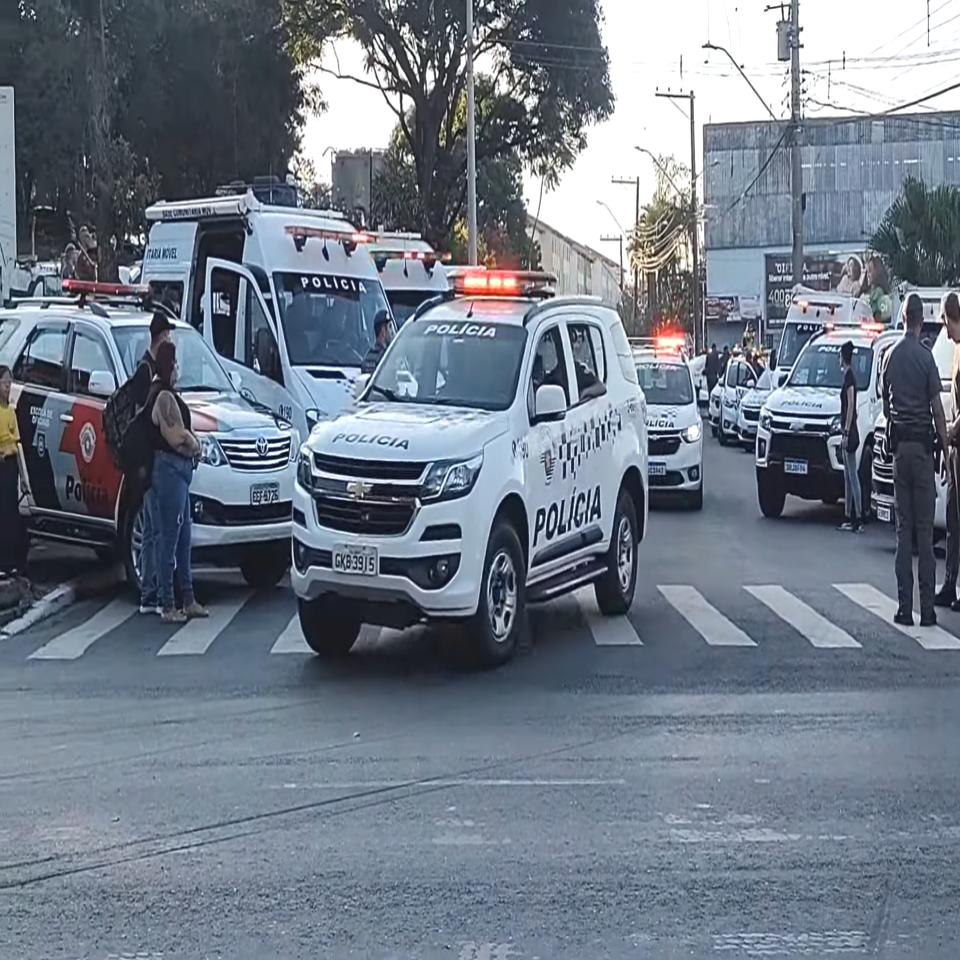viatura: (292, 266, 648, 657)
